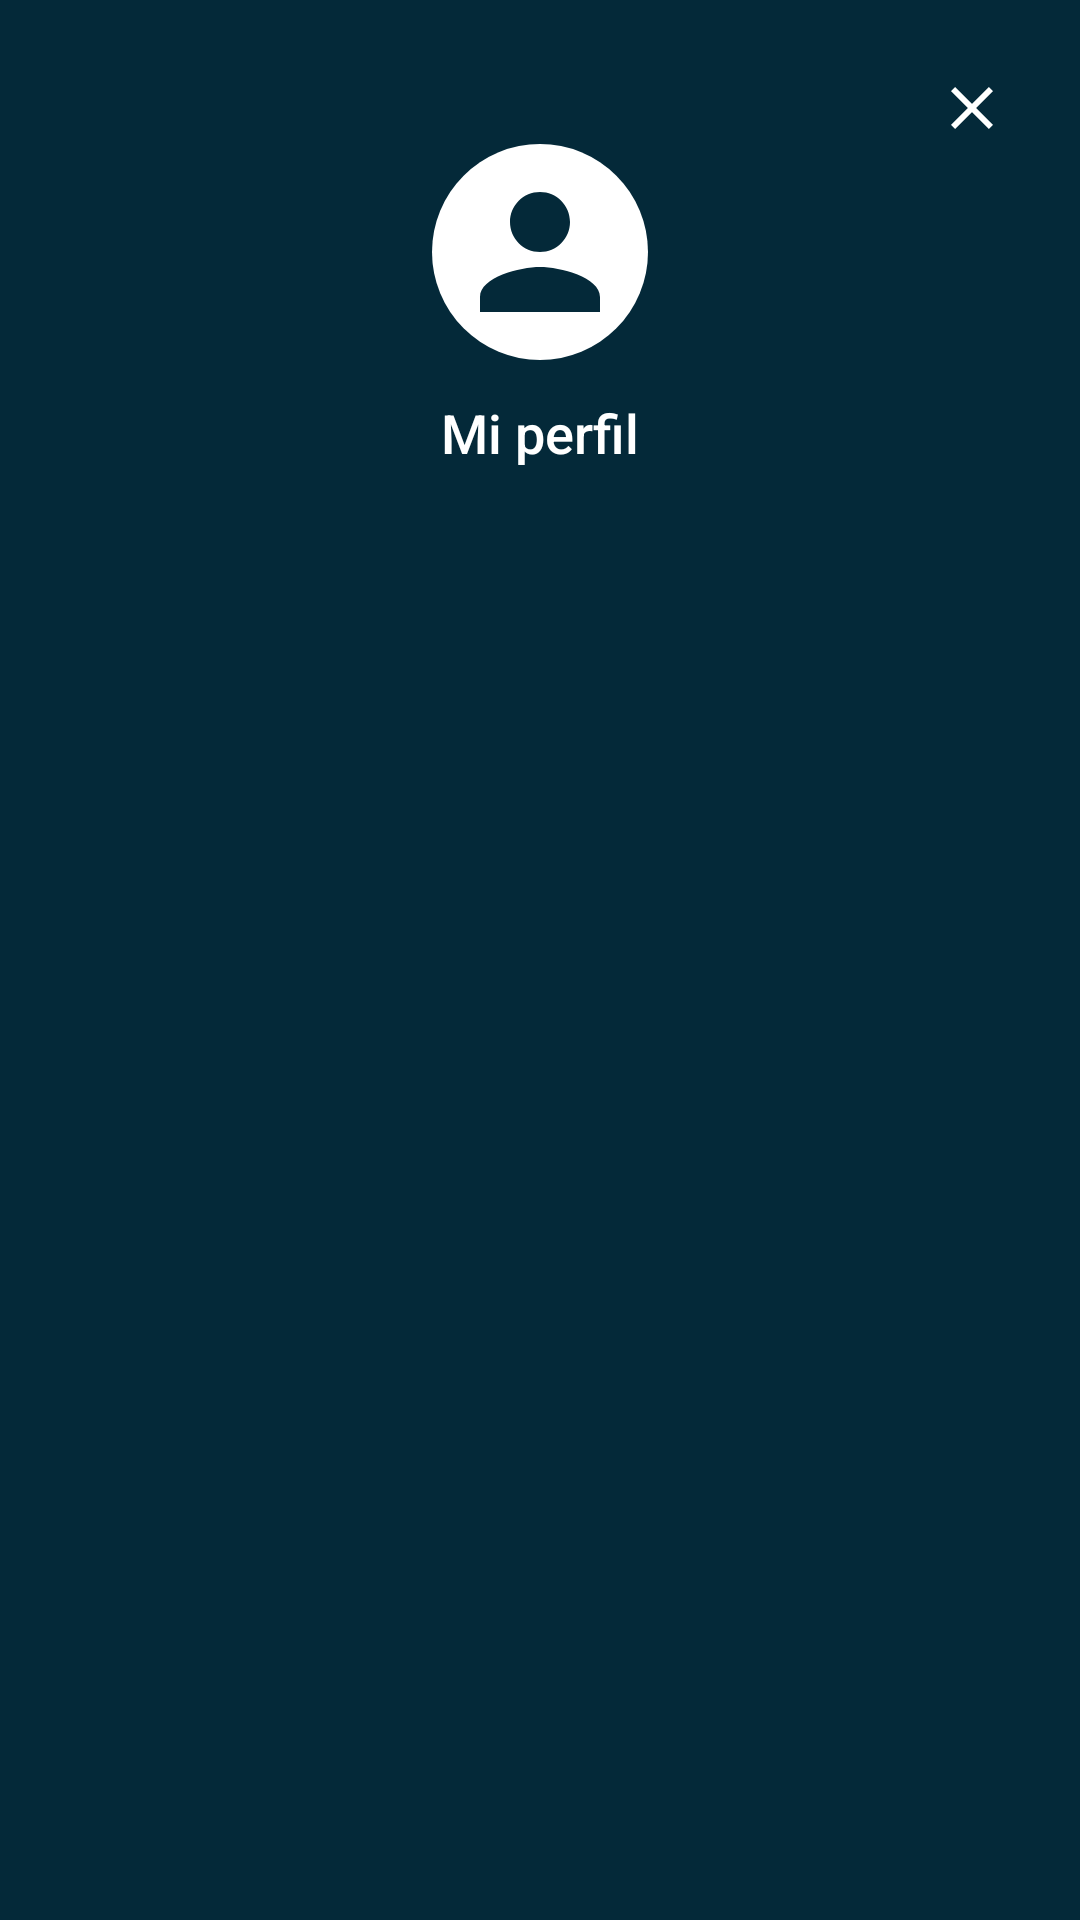

Icon bounding boxes for this 1080px x 1920px phone screenshot, format (x1, y1, x2, y2):
Cerrar menú: (951, 87, 993, 129)
person: (432, 144, 648, 360)
